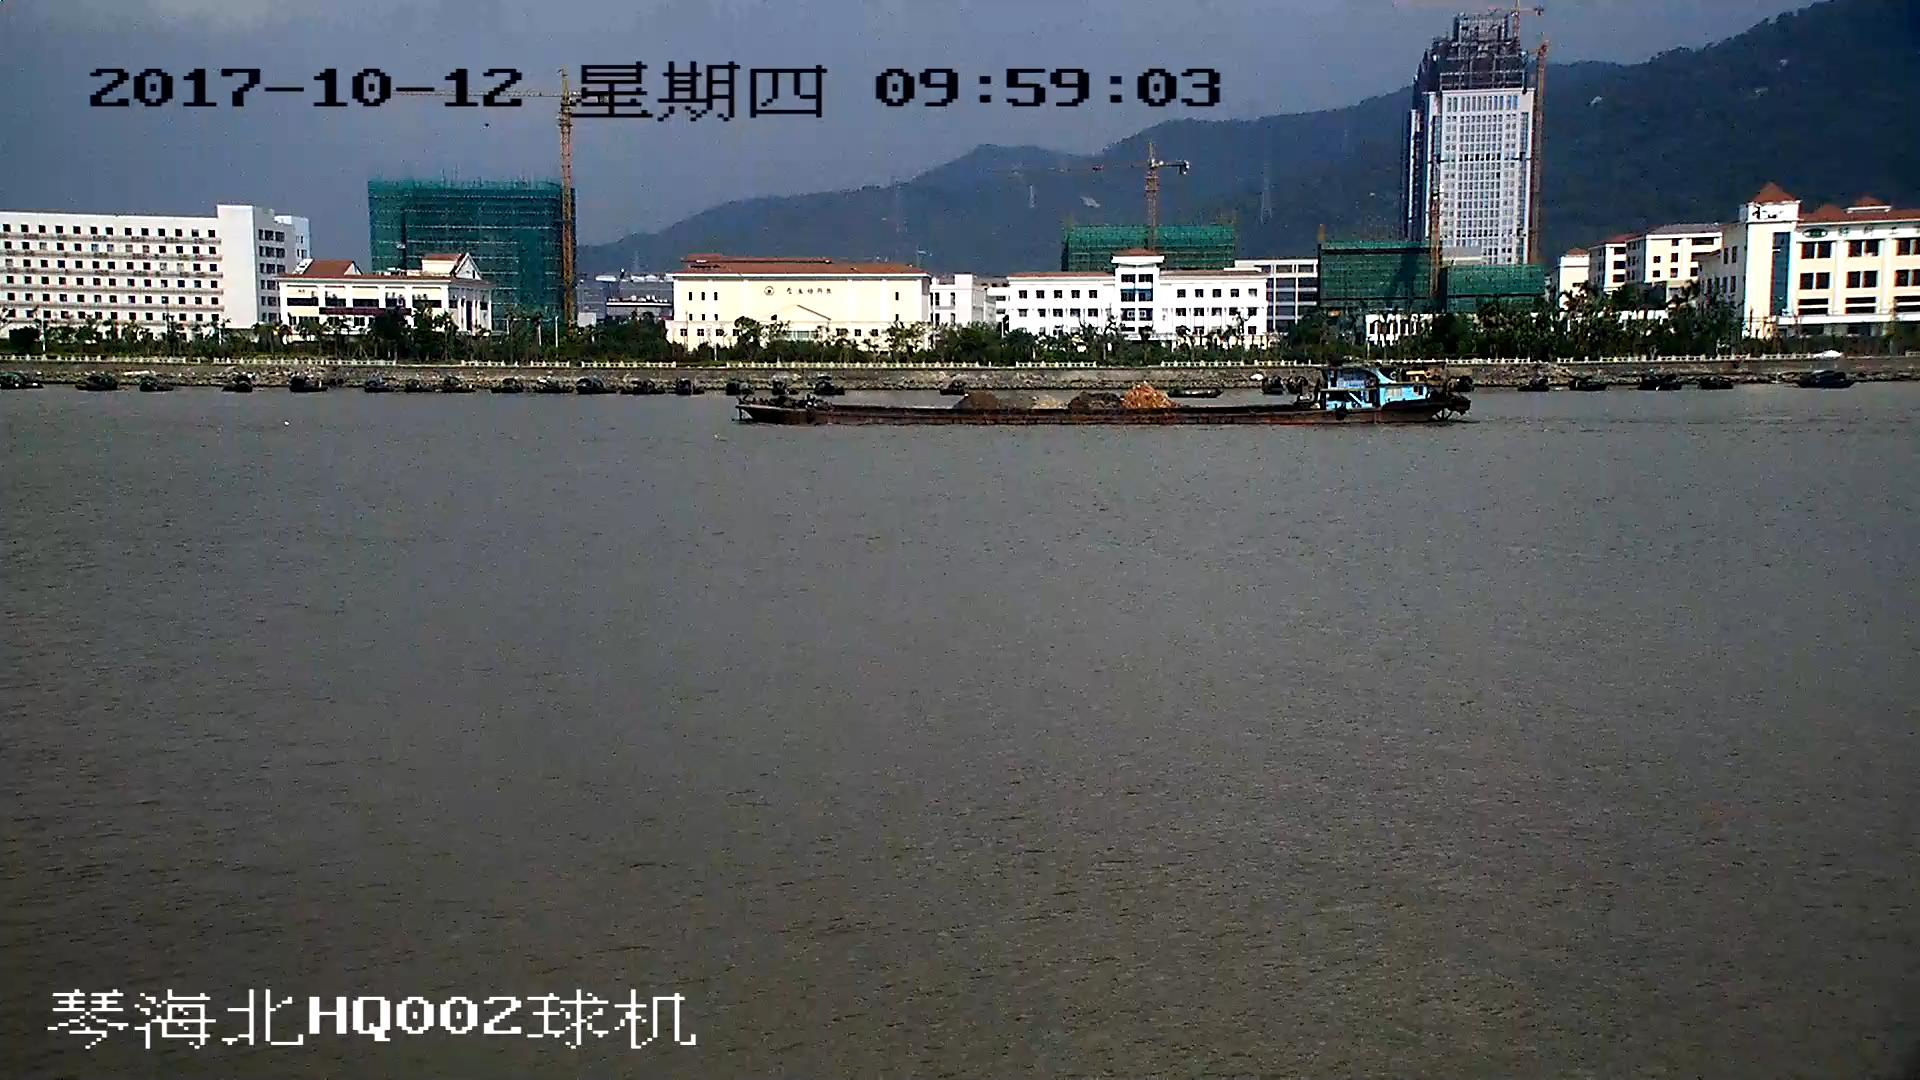ore carrier: (736, 360, 1472, 427)
